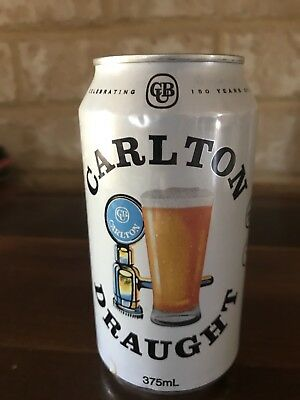beer can: (79, 51, 250, 391)
